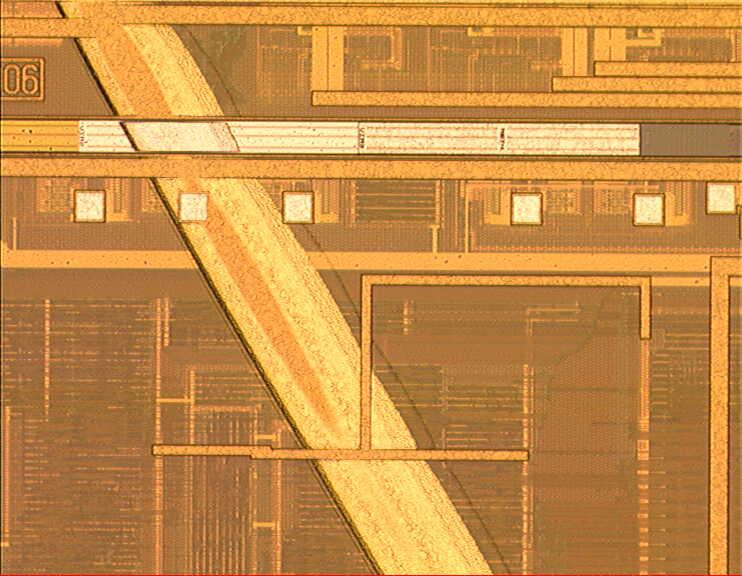BLOCK ETCH: (50, 1, 515, 576)
